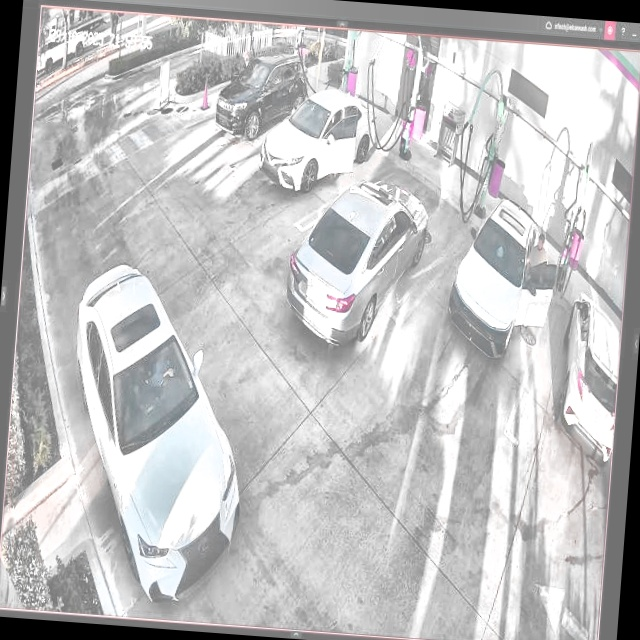Car: (56, 264, 259, 613), (284, 172, 430, 354), (447, 196, 561, 367), (260, 83, 380, 196)
